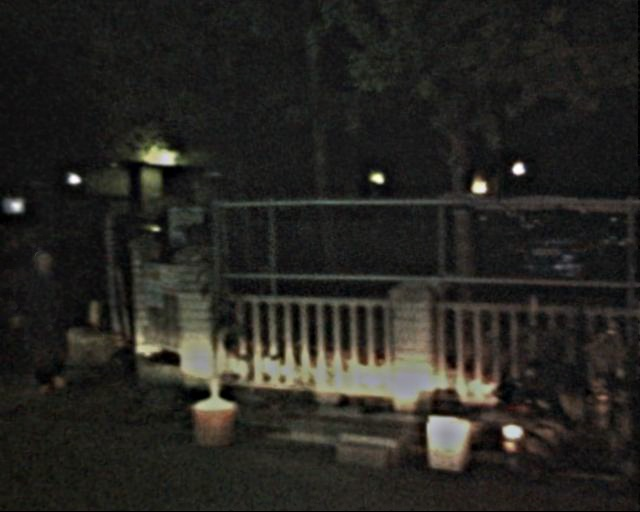person: (8, 236, 78, 389)
